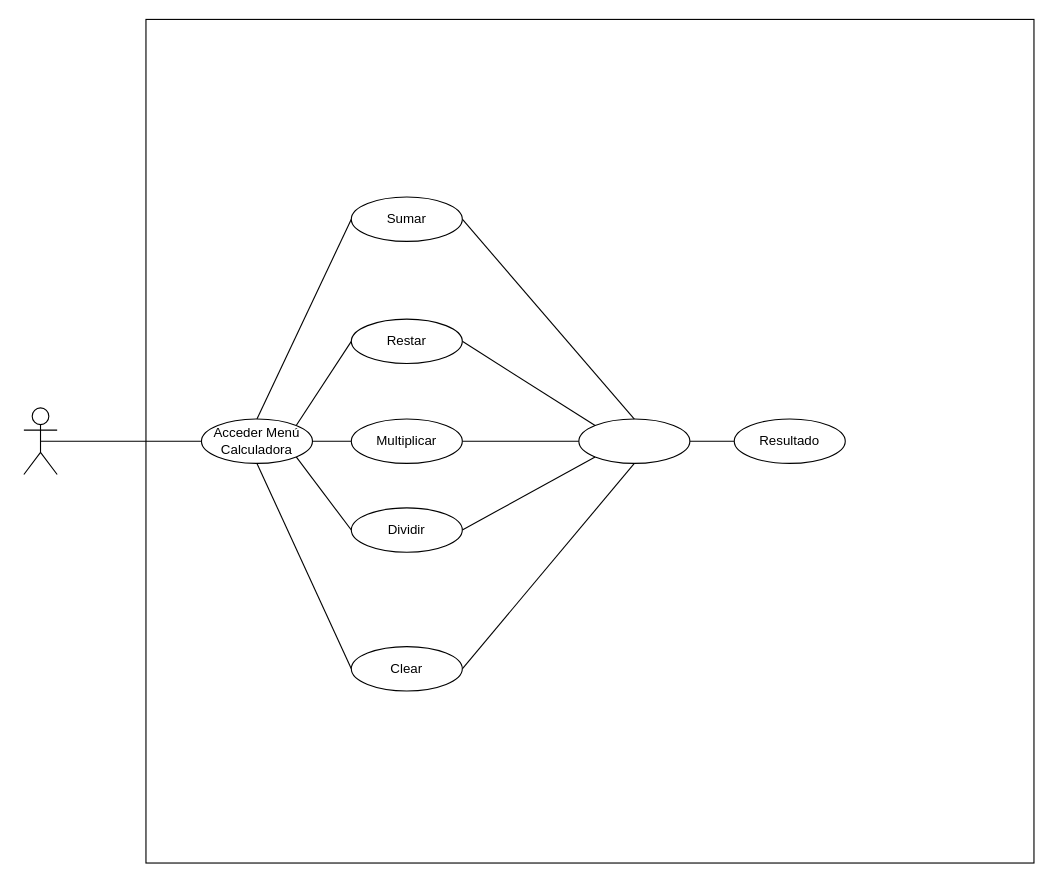
Image size: 1053x882. Some labels were removed from this diagram. Each missing label, with the centre of its shape:
"Pedir números" belongs at (x=634, y=440).
"usuario" belongs at (x=40, y=441).
